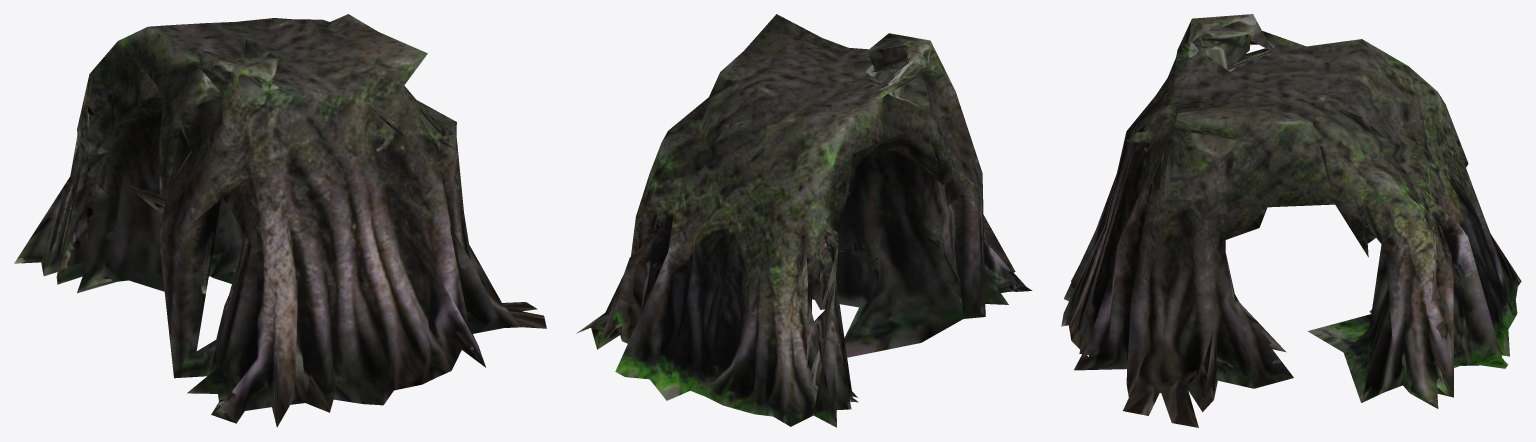
The model's file is 212f19e715b0_7e93282d3642_a_cave_tunnel_cover.glb.
The picture shows the model from 3 angles, left to right: view 1: azimuth 30°, elevation 25°; view 2: azimuth 150°, elevation 25°; view 3: azimuth 270°, elevation 25°; orthographic projection. The views are drawn at different scales.
Parts seen in each view (by area): view 1: mesh; view 2: mesh; view 3: mesh.
Part boxes in pixels (left/top/right/bottom): mesh: left=14, top=14, right=546, bottom=427; mesh: left=576, top=14, right=1032, bottom=427; mesh: left=1061, top=14, right=1521, bottom=427.
Bounding box in the file's own units: 0.8068 × 0.6995 × 0.9393.
Materials: 1 (1 with a texture image).
